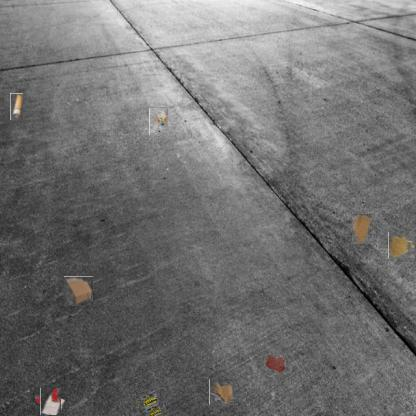dirty: (64, 276, 93, 306), (137, 389, 164, 416), (37, 391, 64, 416), (209, 380, 234, 405), (352, 214, 372, 244), (149, 107, 168, 135), (10, 93, 23, 120)
liquid: (388, 232, 415, 258), (265, 353, 285, 373)
